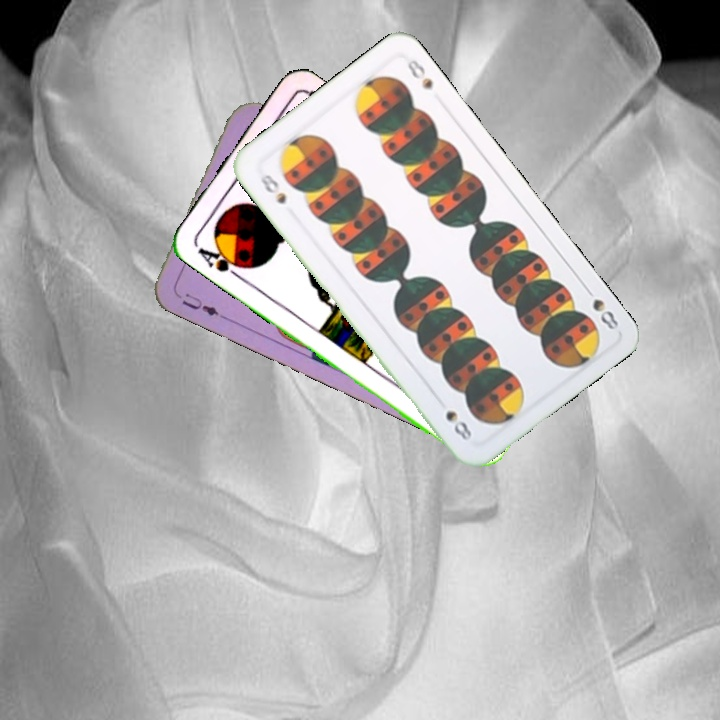EU: (178, 289, 228, 322)
S8: (580, 281, 621, 333), (256, 170, 289, 207)
SA: (193, 239, 249, 281)
